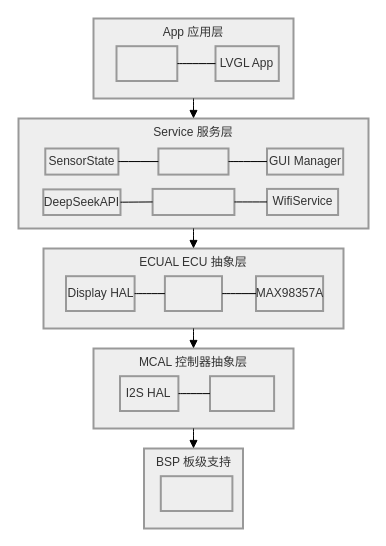
Image size: 386x546. Some labels were removed from this diagram. Each missing label, with the centre of its shape:
"CAN App" belongs at [146,63].
"CanService" belongs at [193,161].
"FreeRTOS 任务配置" belongs at [196,493].
"INMP441" belongs at [192,293].
"VoiceAssistant" belongs at [193,201].
"WiFi HAL" belongs at [241,393].
